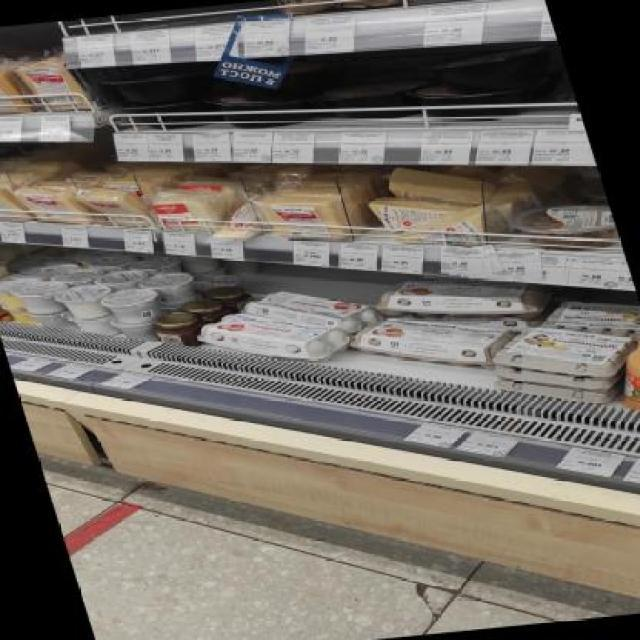egg: (188, 304, 360, 376), (220, 278, 389, 344), (347, 306, 518, 371), (378, 264, 554, 324), (404, 74, 541, 126), (428, 40, 564, 92), (509, 202, 622, 256), (312, 74, 434, 123), (95, 62, 214, 111), (386, 160, 504, 209), (384, 205, 502, 249), (254, 191, 348, 244), (17, 51, 92, 117), (214, 87, 326, 131), (598, 320, 640, 420), (13, 182, 84, 229), (148, 190, 227, 232), (78, 186, 148, 230), (96, 284, 169, 326), (148, 309, 212, 351), (138, 268, 205, 308), (7, 278, 76, 316), (51, 282, 118, 318), (202, 280, 261, 318), (0, 58, 29, 120), (178, 294, 233, 326), (66, 309, 120, 339), (88, 267, 152, 290), (0, 180, 22, 226), (0, 240, 8, 271)
